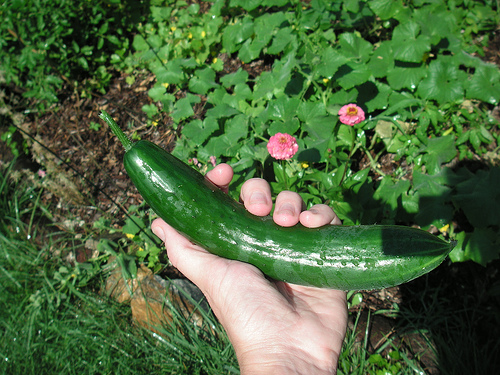cucumber: (98, 109, 459, 292)
